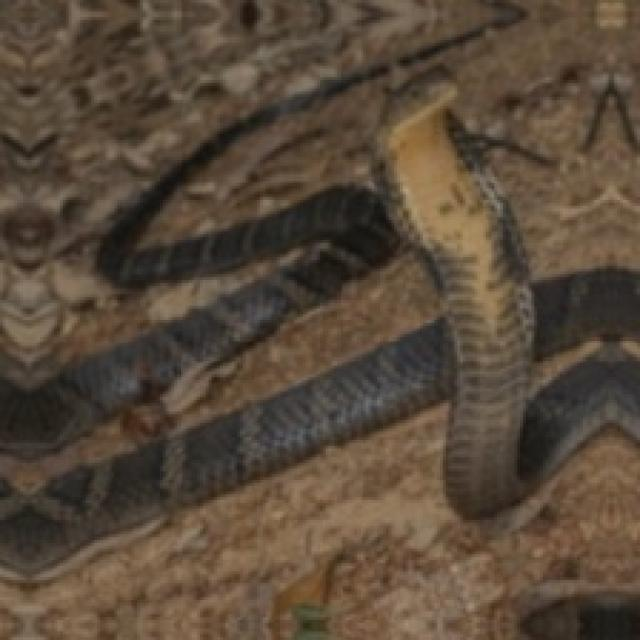king cobra: (0, 0, 637, 571), (523, 354, 637, 471)
